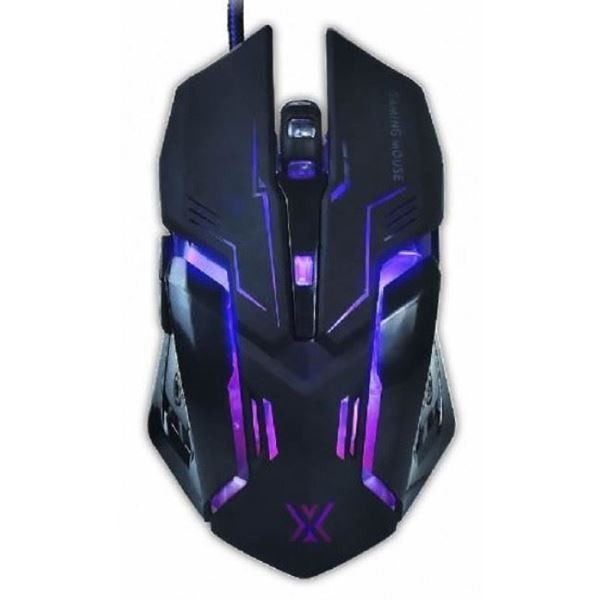mouse: (123, 7, 466, 587)
